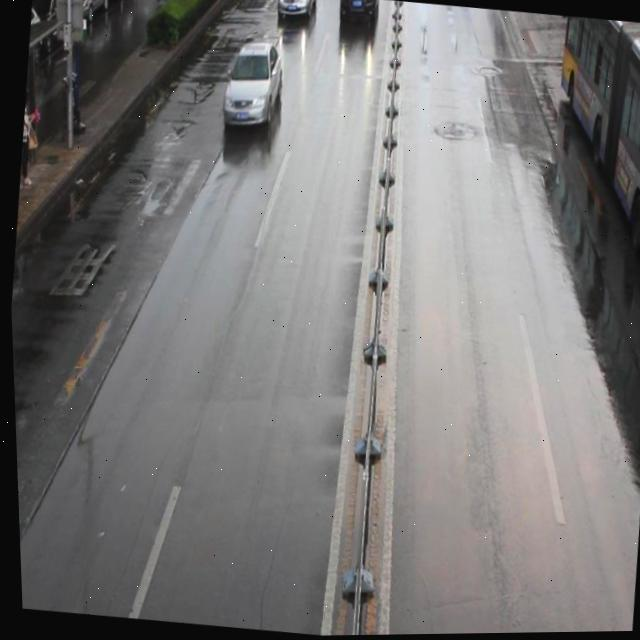car: (216, 35, 287, 136), (335, 0, 378, 23), (276, 0, 317, 22)
van: (536, 17, 640, 290)
